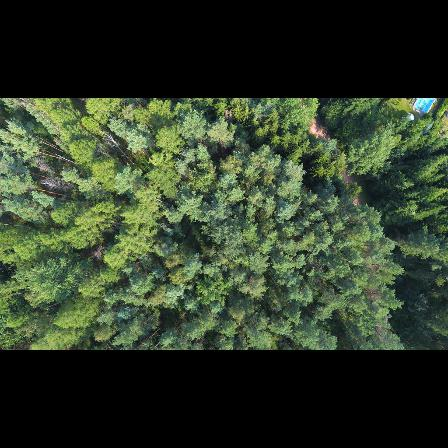Dead: (36, 176, 74, 194), (99, 130, 123, 152)
